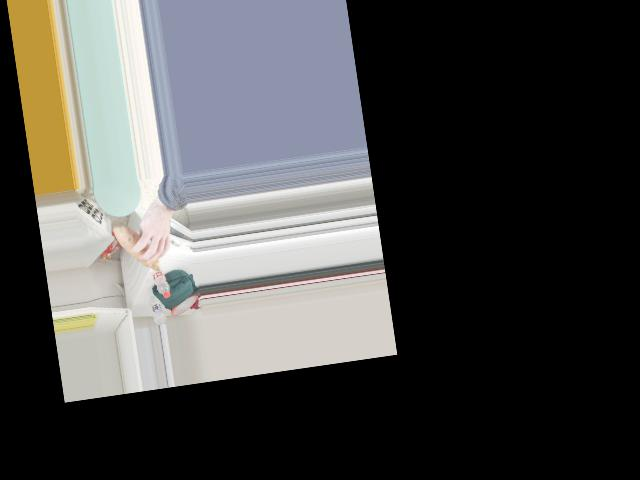sweet_potato: (115, 225, 171, 274)
